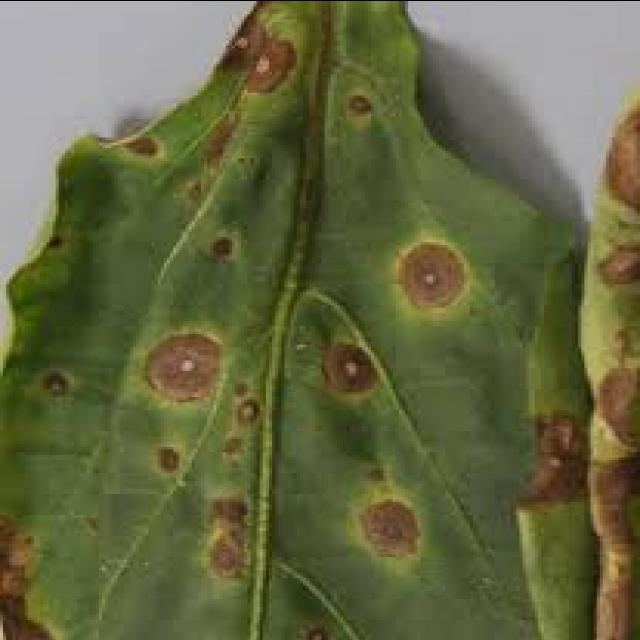bercak_daun: (0, 0, 507, 627)
